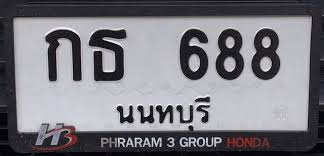txt01: (43, 27, 83, 82)
txt19: (86, 26, 128, 83)
